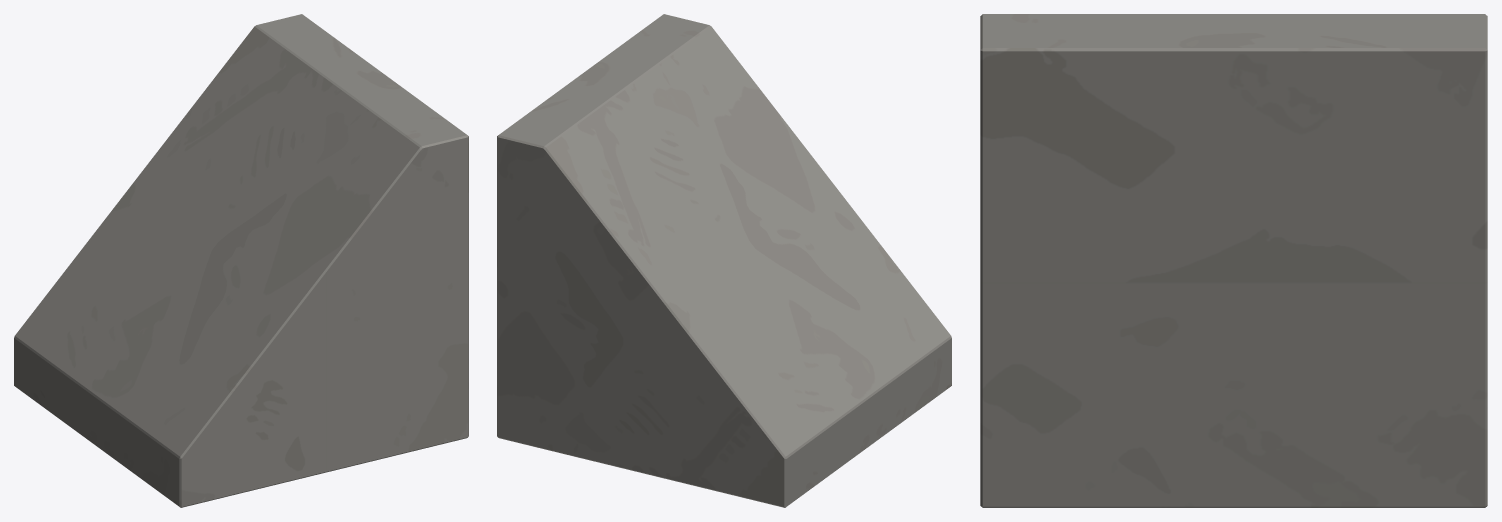
The model's file is model_concrete_ramp_01.fbx.
3 renders of one model, left to right at view 1: azimuth 30°, elevation 25°; view 2: azimuth 150°, elevation 25°; view 3: azimuth 270°, elevation 25°, orthographic. The views are drawn at different scales.
Visible parts, largest first — view 1: model_concrete_ramp_01; view 2: model_concrete_ramp_01; view 3: model_concrete_ramp_01.
Boxes of the visible parts, x1=… form: model_concrete_ramp_01: x1=14, y1=14, x2=468, y2=507; model_concrete_ramp_01: x1=497, y1=14, x2=951, y2=507; model_concrete_ramp_01: x1=980, y1=14, x2=1487, y2=507.
Size of the model in its own units: 300 by 300 by 300.
1 material, 1 textured.
